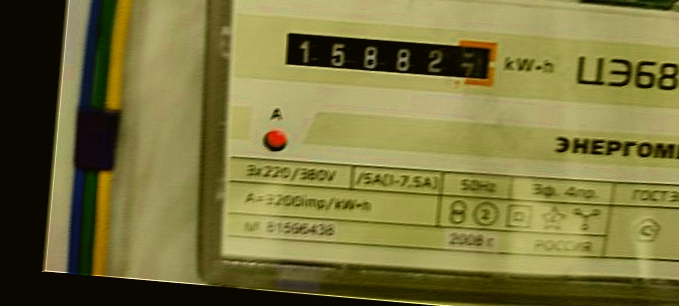1: (298, 35, 314, 61)
2: (428, 45, 445, 70)
5: (330, 37, 348, 64)
7: (460, 55, 476, 75)
8: (363, 41, 381, 68), (396, 43, 413, 69)
screen: (270, 12, 508, 95)
